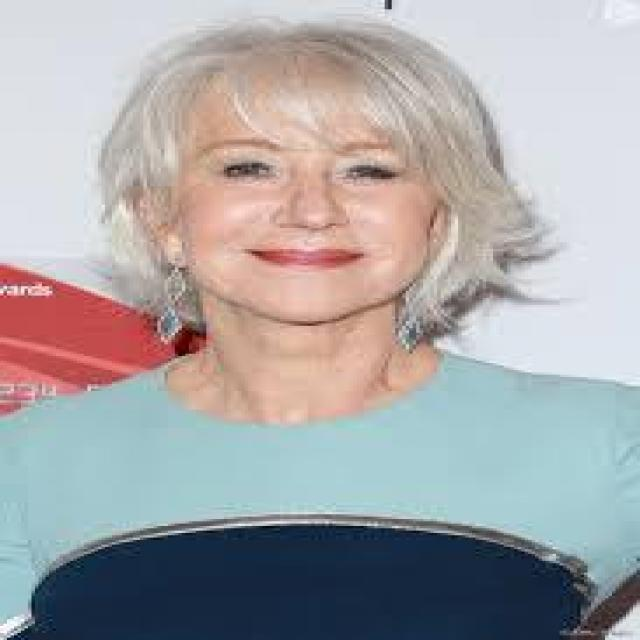person: (11, 17, 636, 636)
